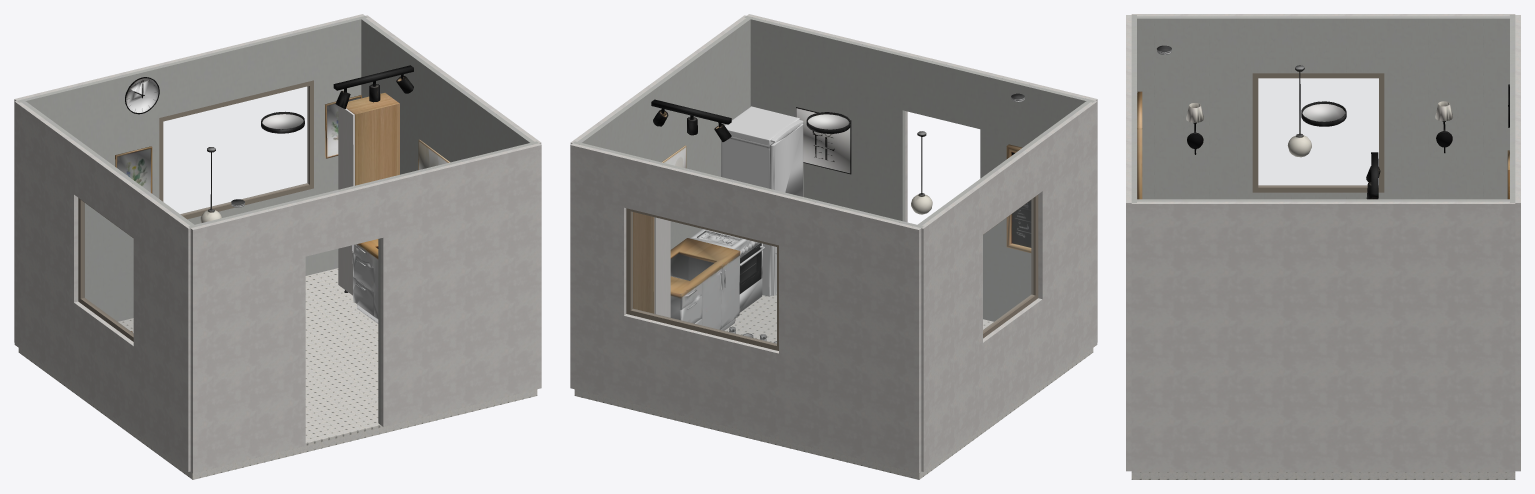
Rendered from scene_named.glb.
3 renders of one model, left to right at view 1: azimuth 30°, elevation 25°; view 2: azimuth 150°, elevation 25°; view 3: azimuth 270°, elevation 25°, orthographic. The views are drawn at different scales.
Parts seen in each view (by area): view 1: south_wall_exterior_kitchen/south_wall_exterior_kitchen/geom, west_wall_exterior_kitchen/west_wall_exterior_kitchen/geomet, north_wall_kitchen/north_wall_kitchen/geometry_0, floor_kitchen, window_1_kitchen/window_1_kitchen/glass, east_wall_kitchen/east_wall_kitchen/geometry_0, window_2_kitchen/window_2_kitchen/glass, pantry_tower_cabinet_0/E_body_516.007, window_1_kitchen/window_1_kitchen/frame, pantry_tower_cabinet_0/E_drawer_5.031, base_cabinet_0, south_wall_kitchen/south_wall_kitchen/geometry_0 (+9 smaller); view 2: north_wall_exterior_kitchen/north_wall_exterior_kitchen/geom, west_wall_exterior_kitchen/west_wall_exterior_kitchen/geomet, south_wall_kitchen/south_wall_kitchen/geometry_0, window_1_kitchen/window_1_kitchen/glass, east_wall_kitchen/east_wall_kitchen/geometry_0, base_cabinet_0, floor_kitchen, window_2_kitchen/window_2_kitchen/glass, fridge_0/E_body_12.007, window_1_kitchen/window_1_kitchen/frame, pantry_tower_cabinet_0/E_body_516.007, stove_oven_0 (+11 smaller); view 3: east_wall_exterior_kitchen/east_wall_exterior_kitchen/geomet, west_wall_kitchen/west_wall_kitchen/geometry_0, window_2_kitchen/window_2_kitchen/glass, window_2_kitchen/window_2_kitchen/frame, floor_kitchen, north_wall_exterior_kitchen/north_wall_exterior_kitchen/geom, south_wall_exterior_kitchen/south_wall_exterior_kitchen/geom, west_wall_exterior_kitchen/west_wall_exterior_kitchen/geomet, north_wall_kitchen/north_wall_kitchen/geometry_0, south_wall_kitchen/south_wall_kitchen/geometry_0, east_wall_kitchen/east_wall_kitchen/geometry_0, flush_mount_0 (+5 smaller).
Boxes of the visible parts, left/top/right/bottom form: south_wall_exterior_kitchen/south_wall_exterior_kitchen/geom: left=190, top=143, right=541, bottom=473; west_wall_exterior_kitchen/west_wall_exterior_kitchen/geomet: left=14, top=101, right=190, bottom=471; north_wall_kitchen/north_wall_kitchen/geometry_0: left=17, top=16, right=367, bottom=321; floor_kitchen: left=18, top=268, right=537, bottom=479; window_1_kitchen/window_1_kitchen/glass: left=163, top=86, right=308, bottom=214; east_wall_kitchen/east_wall_kitchen/geometry_0: left=361, top=18, right=534, bottom=174; window_2_kitchen/window_2_kitchen/glass: left=83, top=202, right=133, bottom=333; pantry_tower_cabinet_0/E_body_516.007: left=346, top=93, right=399, bottom=185; window_1_kitchen/window_1_kitchen/frame: left=159, top=80, right=313, bottom=219; pantry_tower_cabinet_0/E_drawer_5.031: left=338, top=106, right=354, bottom=295; base_cabinet_0: left=352, top=239, right=378, bottom=323; south_wall_kitchen/south_wall_kitchen/geometry_0: left=188, top=141, right=538, bottom=424; north_wall_exterior_kitchen/north_wall_exterior_kitchen/geom: left=570, top=143, right=921, bottom=473; west_wall_exterior_kitchen/west_wall_exterior_kitchen/geomet: left=921, top=101, right=1097, bottom=471; south_wall_kitchen/south_wall_kitchen/geometry_0: left=744, top=16, right=1094, bottom=321; window_1_kitchen/window_1_kitchen/glass: left=632, top=212, right=776, bottom=344; east_wall_kitchen/east_wall_kitchen/geometry_0: left=577, top=18, right=750, bottom=249; base_cabinet_0: left=670, top=238, right=740, bottom=330; floor_kitchen: left=574, top=294, right=1093, bottom=479; window_2_kitchen/window_2_kitchen/glass: left=983, top=199, right=1032, bottom=331; fridge_0/E_body_12.007: left=721, top=106, right=803, bottom=296; window_1_kitchen/window_1_kitchen/frame: left=626, top=208, right=778, bottom=350; pantry_tower_cabinet_0/E_body_516.007: left=633, top=212, right=654, bottom=313; stove_oven_0: left=690, top=229, right=764, bottom=312; east_wall_exterior_kitchen/east_wall_exterior_kitchen/geomet: left=1131, top=201, right=1515, bottom=472; west_wall_kitchen/west_wall_kitchen/geometry_0: left=1137, top=16, right=1509, bottom=199; window_2_kitchen/window_2_kitchen/glass: left=1258, top=78, right=1378, bottom=185; window_2_kitchen/window_2_kitchen/frame: left=1252, top=73, right=1384, bottom=192; floor_kitchen: left=1131, top=472, right=1515, bottom=479; north_wall_exterior_kitchen/north_wall_exterior_kitchen/geom: left=1515, top=15, right=1520, bottom=471; south_wall_exterior_kitchen/south_wall_exterior_kitchen/geom: left=1126, top=15, right=1131, bottom=471; west_wall_exterior_kitchen/west_wall_exterior_kitchen/geomet: left=1131, top=14, right=1515, bottom=16; north_wall_kitchen/north_wall_kitchen/geometry_0: left=1510, top=15, right=1515, bottom=202; south_wall_kitchen/south_wall_kitchen/geometry_0: left=1131, top=15, right=1136, bottom=202; east_wall_kitchen/east_wall_kitchen/geometry_0: left=1137, top=199, right=1509, bottom=201; flush_mount_0: left=1301, top=101, right=1346, bottom=126.
Bounding box in the file's own units: 4.1 × 2.8 × 3.6.
40 materials, 31 textured.
